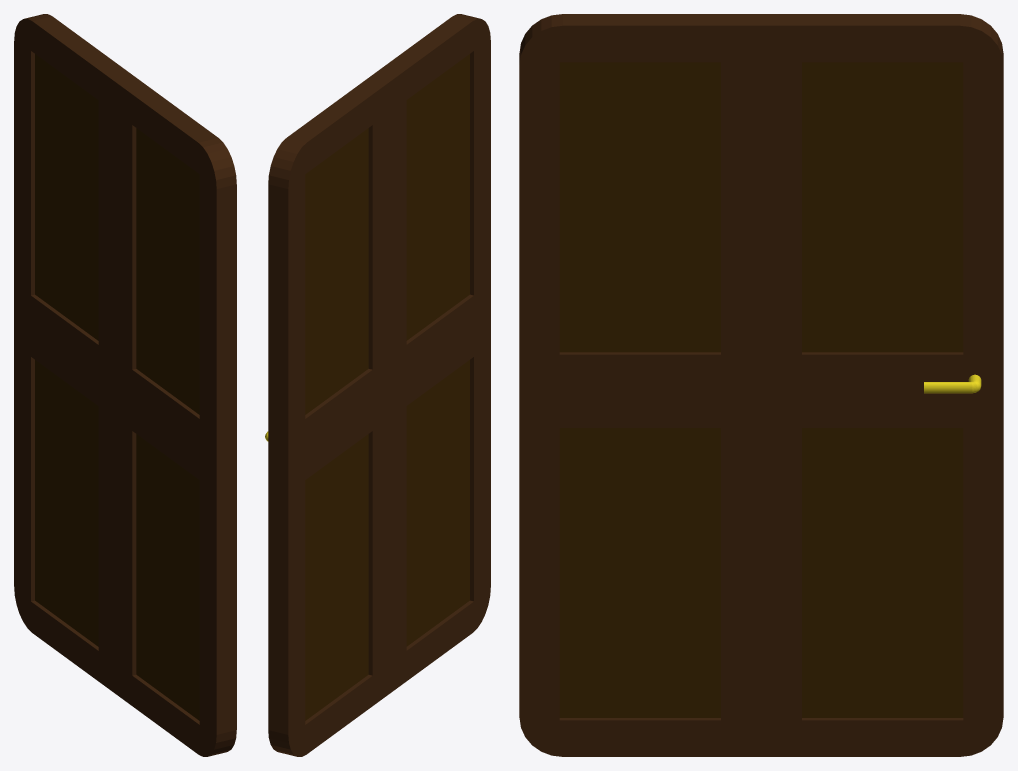
Rendered from kapı.fbx.
The picture shows the model from 3 angles, left to right: view 1: azimuth 30°, elevation 25°; view 2: azimuth 150°, elevation 25°; view 3: azimuth 270°, elevation 25°; orthographic projection. The views are drawn at different scales.
Parts seen in each view (by area): view 1: Cube.001; view 2: Cube.001; view 3: Cube.001.
Part boxes in pixels (x1,y1,x2,y2): Cube.001: [14, 14, 236, 756]; Cube.001: [265, 14, 490, 756]; Cube.001: [519, 14, 1003, 756].
Bounding box in the file's own units: 15 × 250 × 150.
